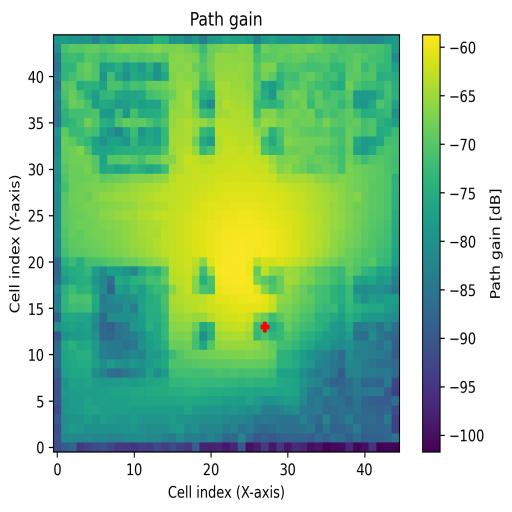Concrete: (277, 62, 345, 173)
Glass: (99, 62, 169, 175)
Metal: (276, 267, 346, 378)
Wood: (99, 268, 169, 379)
